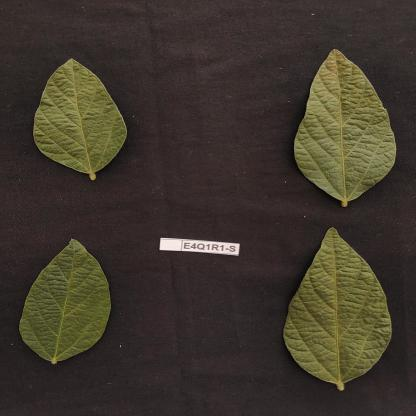label: (157, 234, 248, 258)
leaflets: (276, 216, 414, 400), (286, 41, 394, 214), (15, 230, 127, 372), (20, 52, 136, 183)
